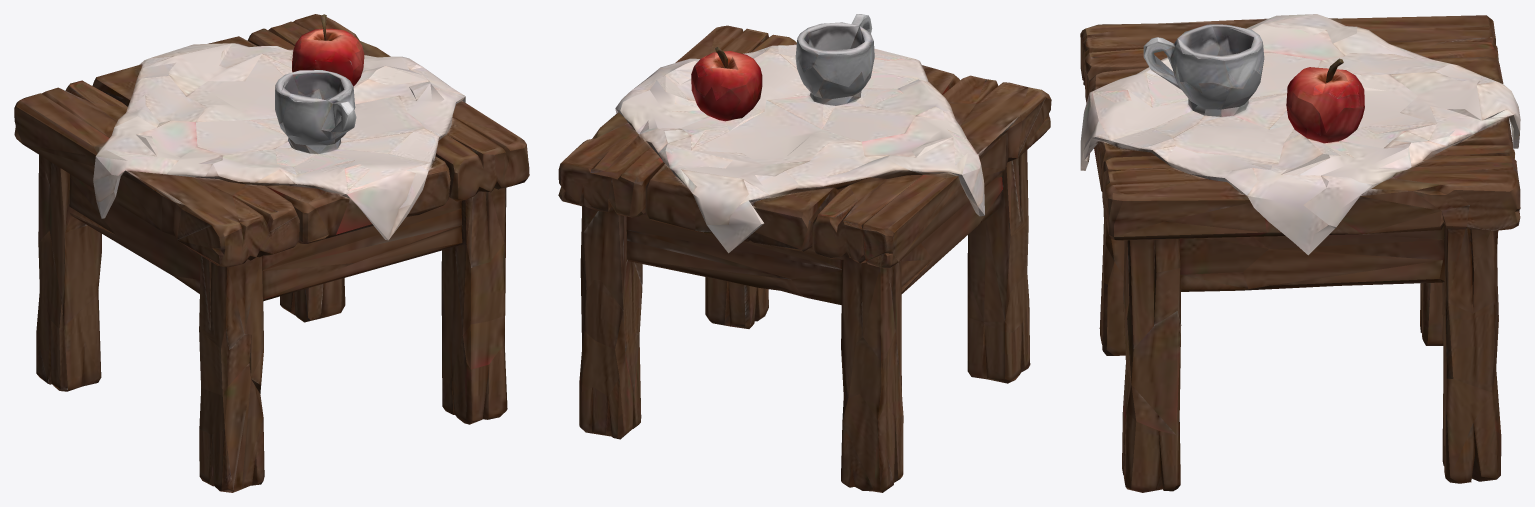
The model's file is small_table_3d.glb.
The picture shows the model from 3 angles, left to right: view 1: azimuth 30°, elevation 25°; view 2: azimuth 150°, elevation 25°; view 3: azimuth 270°, elevation 25°; orthographic projection. The views are drawn at different scales.
Parts seen in each view (by area): view 1: Mesh_0; view 2: Mesh_0; view 3: Mesh_0.
Boxes of the visible parts, bbox=[...] form: Mesh_0: bbox=[14, 14, 529, 492]; Mesh_0: bbox=[558, 14, 1051, 492]; Mesh_0: bbox=[1080, 14, 1520, 492].
Bounding box in the file's own units: 0.8511 × 0.8125 × 0.8348.
1 material, 1 textured.
